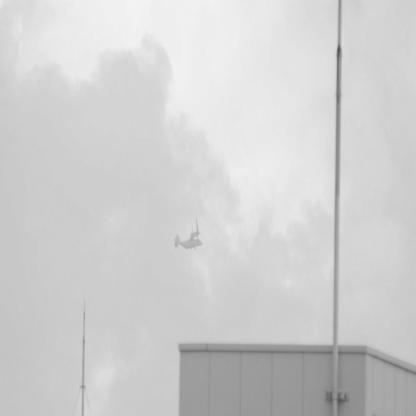V22: (175, 218, 204, 252)
